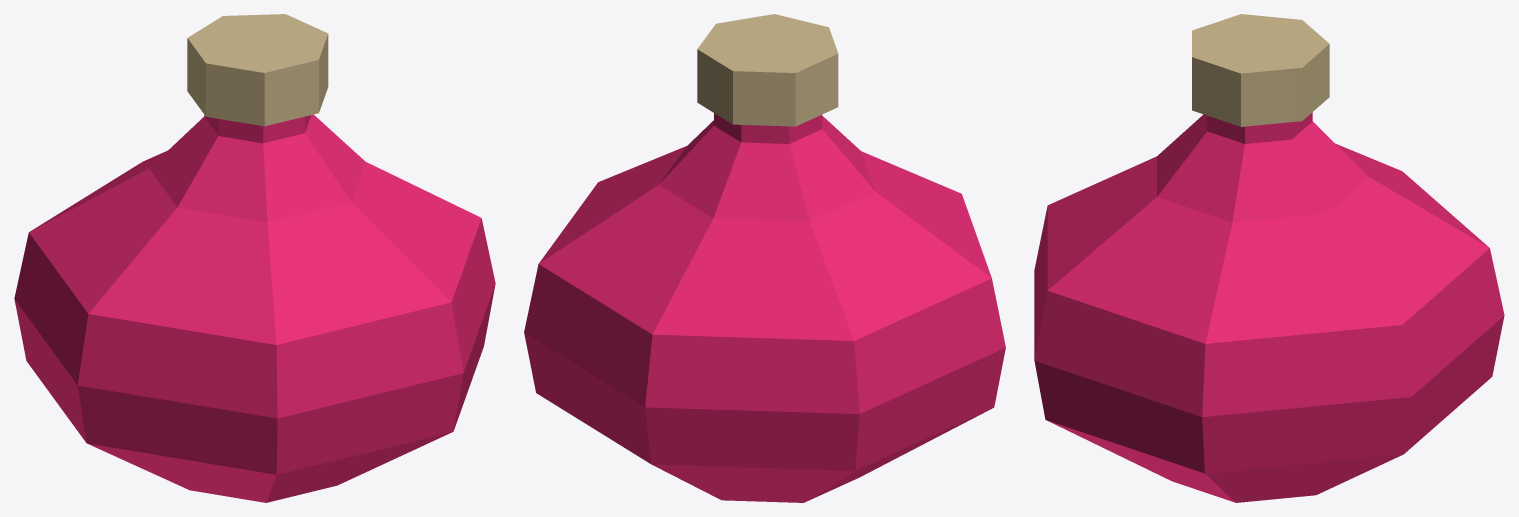
File: ShortPotion_3.fbx
3 renders of one model, left to right at view 1: azimuth 30°, elevation 25°; view 2: azimuth 150°, elevation 25°; view 3: azimuth 270°, elevation 25°, orthographic.
Visible parts, largest first — view 1: ShortPotion_3; view 2: ShortPotion_3; view 3: ShortPotion_3.
Part boxes in pixels (left/top/right/bottom): ShortPotion_3: left=14, top=14, right=495, bottom=502; ShortPotion_3: left=524, top=14, right=1005, bottom=502; ShortPotion_3: left=1034, top=14, right=1504, bottom=502.
Size of the model in its own units: 13.29 by 12.78 by 12.96.
